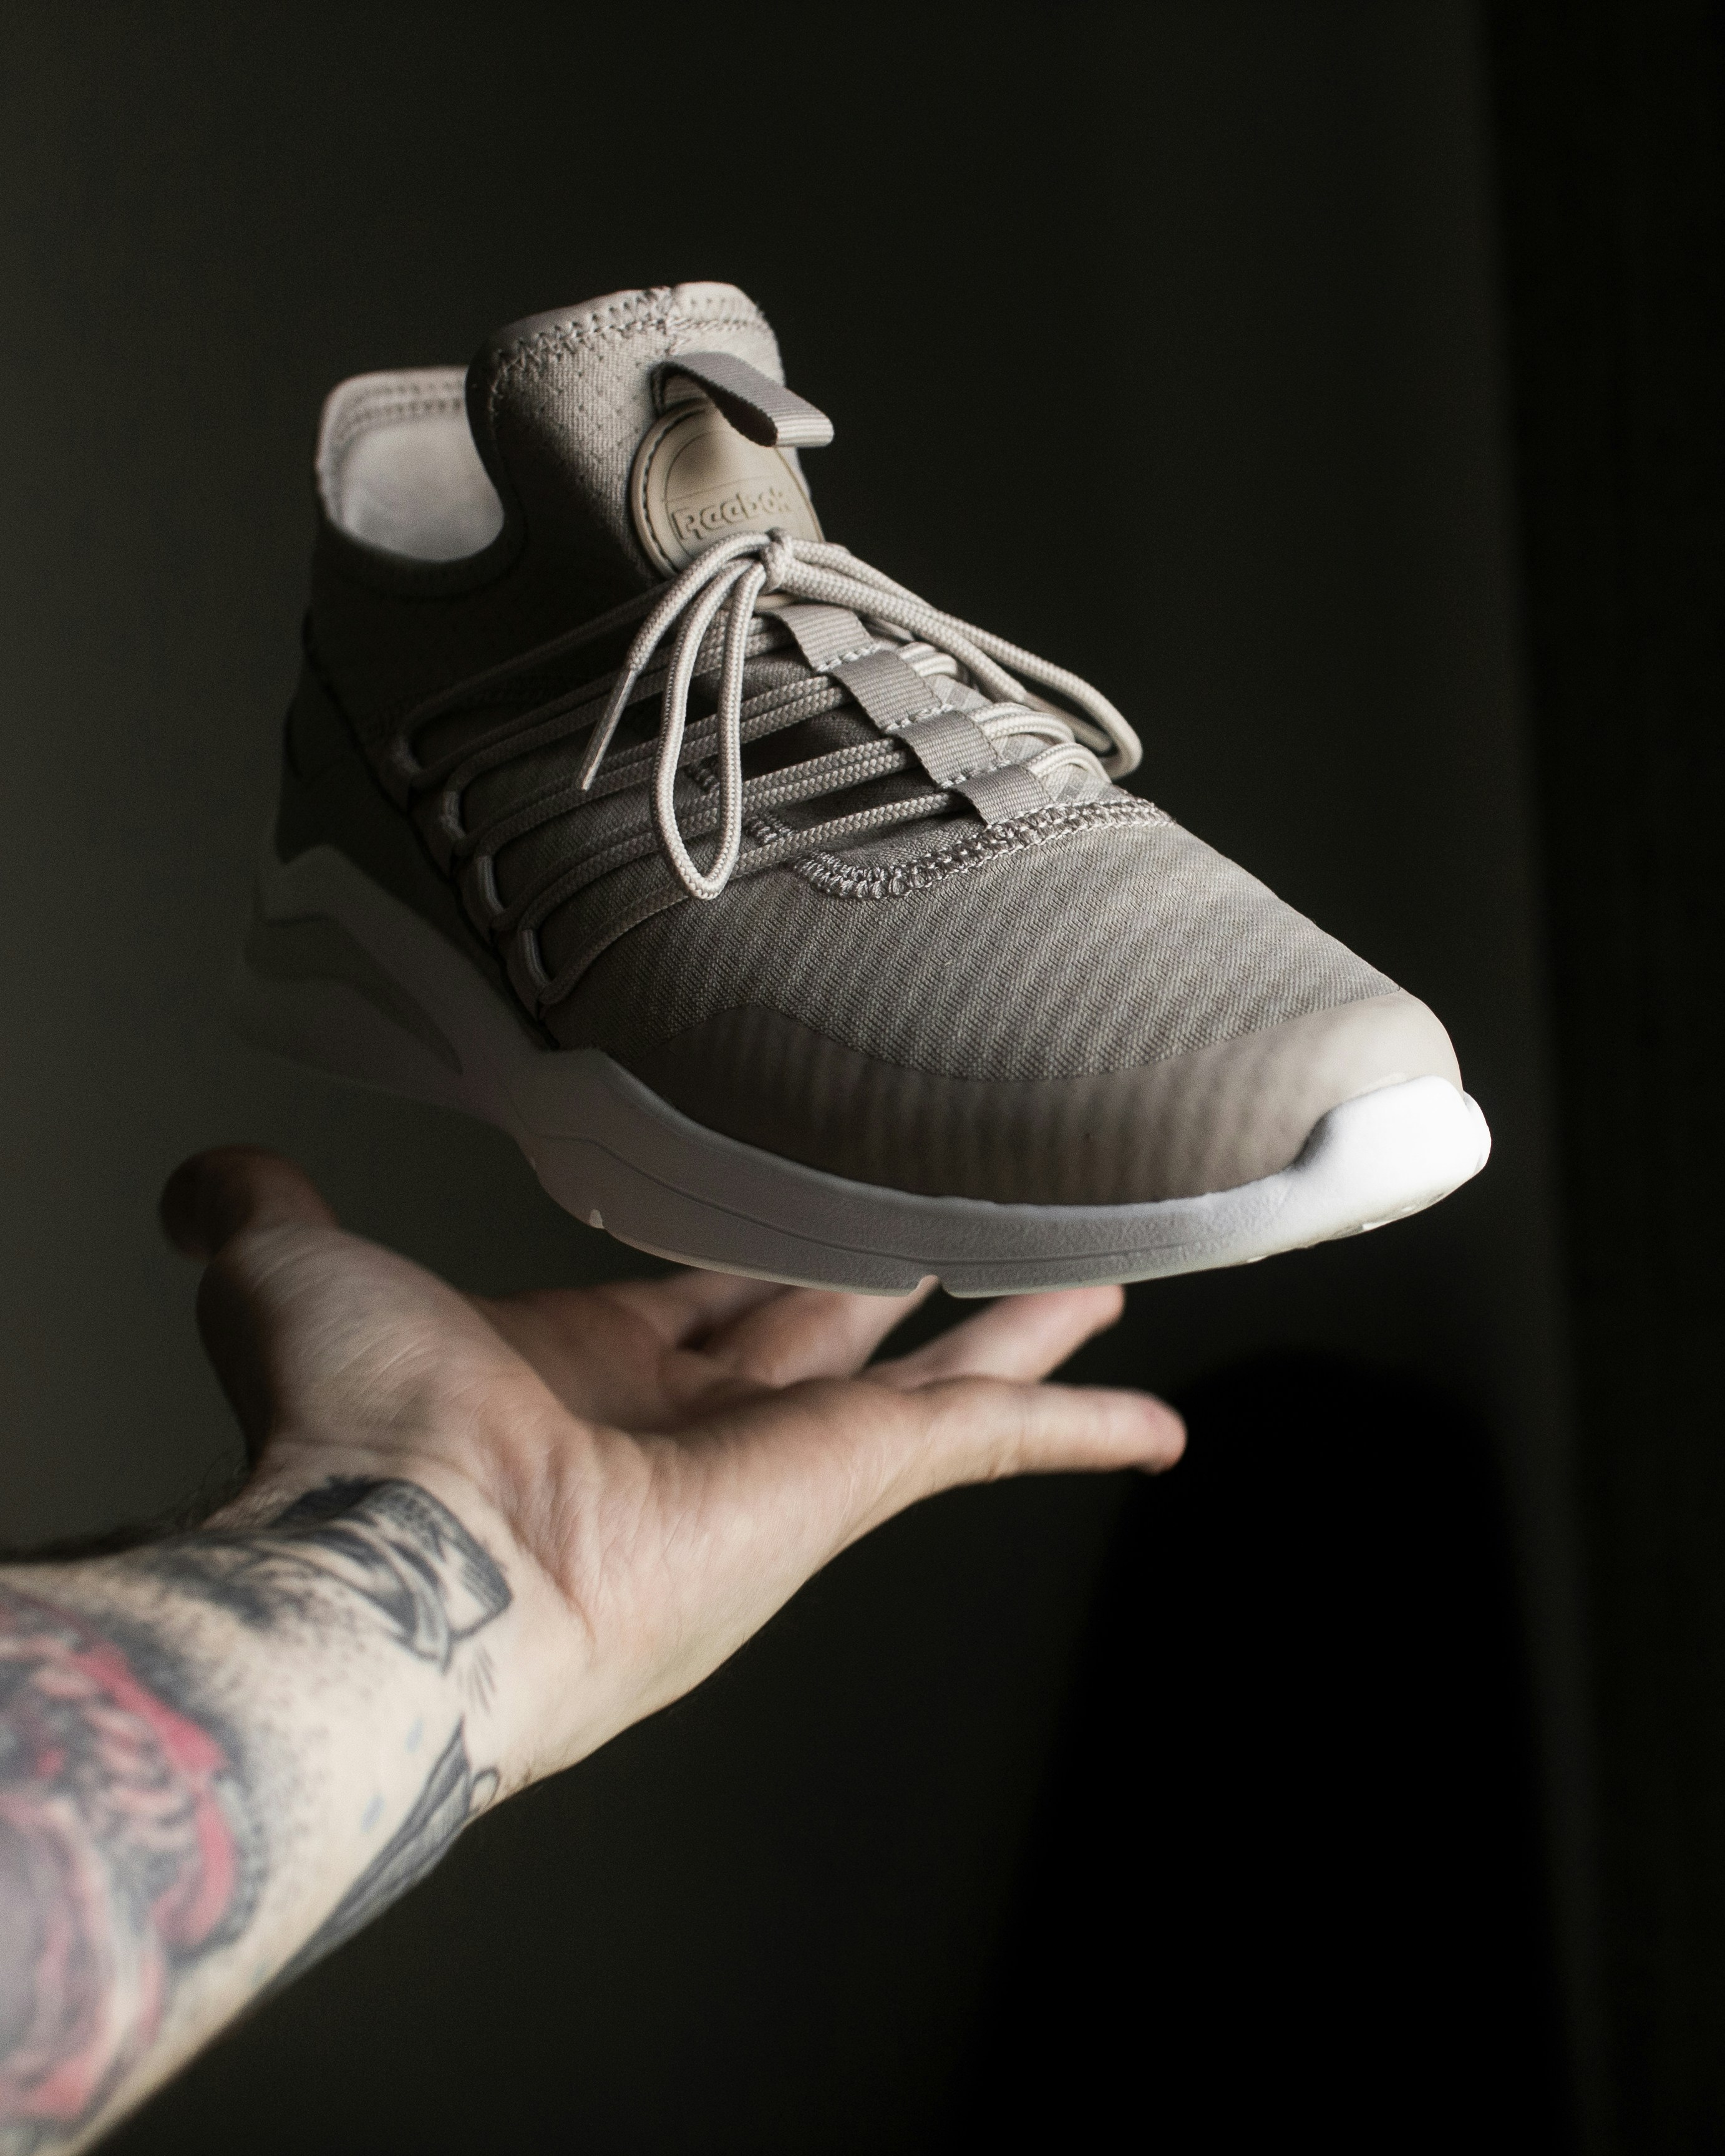Footwear: (227, 276, 1524, 1331)
